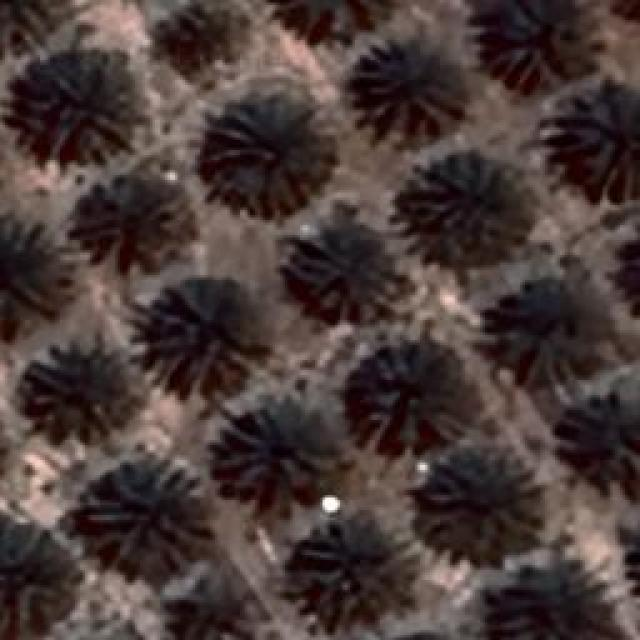PalmTree: (205, 98, 338, 212), (140, 280, 265, 398), (400, 147, 535, 250), (80, 457, 205, 565), (350, 32, 465, 140), (20, 54, 135, 162), (212, 398, 330, 498), (300, 517, 420, 615), (352, 350, 470, 448), (0, 509, 88, 639), (282, 225, 402, 318), (424, 455, 538, 550), (78, 169, 186, 269), (496, 276, 602, 372), (23, 352, 138, 436), (482, 0, 588, 85), (560, 85, 638, 200), (495, 575, 625, 640), (31, 21, 330, 49), (0, 208, 60, 342), (568, 396, 632, 492), (156, 580, 254, 640), (162, 0, 247, 62), (623, 219, 640, 323), (624, 509, 640, 618), (629, 518, 640, 620), (629, 222, 640, 323), (606, 0, 640, 29)
